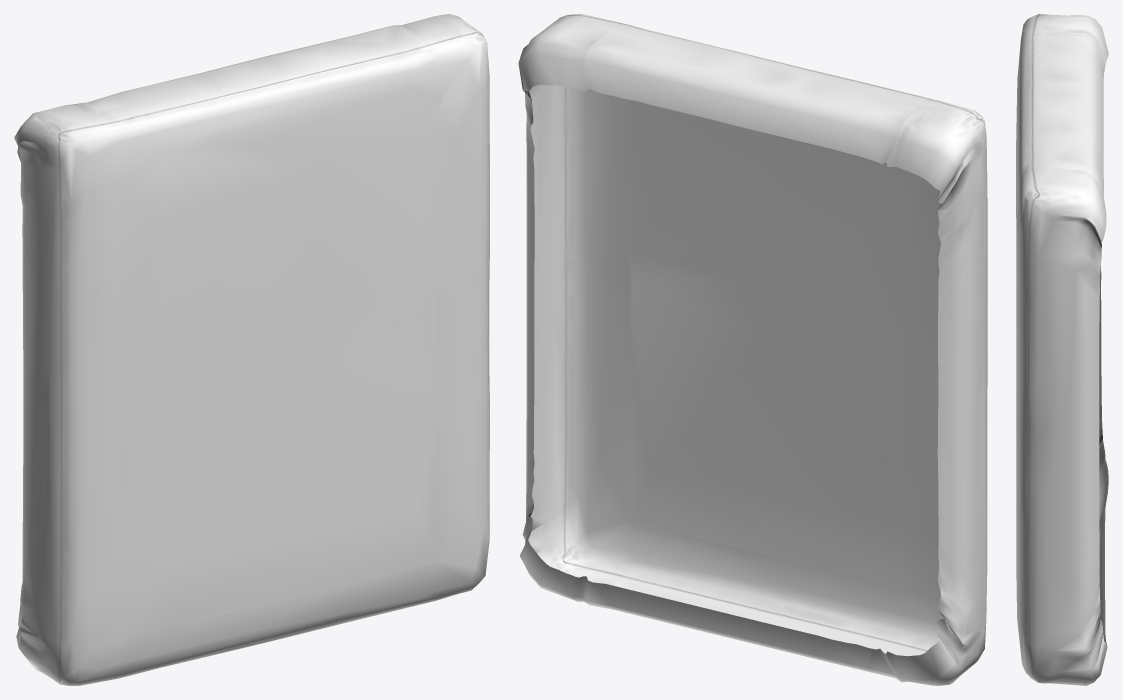
File: BedMattress_24_BedMattress_24_1.obj
3 renders of one model, left to right at view 1: azimuth 30°, elevation 25°; view 2: azimuth 150°, elevation 25°; view 3: azimuth 270°, elevation 25°, orthographic. The views are drawn at different scales.
Visible parts, largest first — view 1: BedMattress_24; view 2: BedMattress_24; view 3: BedMattress_24.
Boxes of the visible parts, <box> form: BedMattress_24: <box>14,14,489,685</box>; BedMattress_24: <box>518,14,987,685</box>; BedMattress_24: <box>1016,14,1108,685</box>.
Bounding box in the file's own units: 1.67 × 2.03 × 0.3386.
